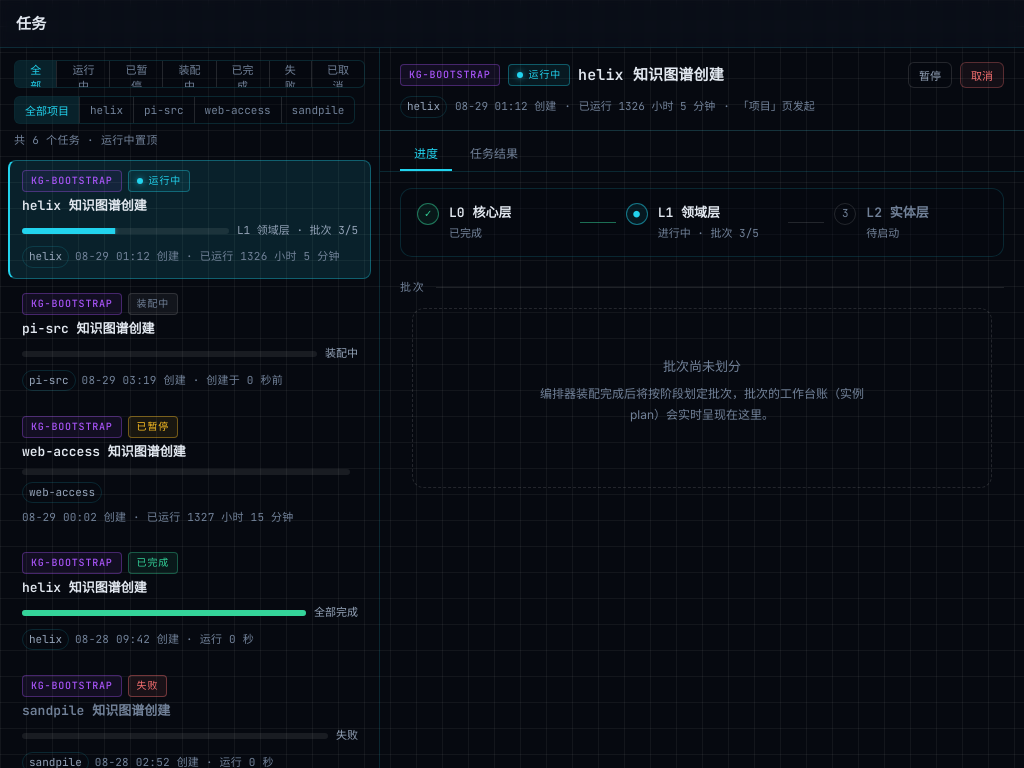
P-2 TasksPage：阶段条 + 批次 plan + 任务结果 › 结果 tab：阶段卡 = 阶段名 + 状态徽章 + summary 纯文字报告（零计数 chip/节点清单/链接/尾注）；tab 名「任务结果」
What coordinates should you click on to do the following:
click the button "任务结果"
I would click on:
 (494, 154)
Its box is [456,137,532,171].
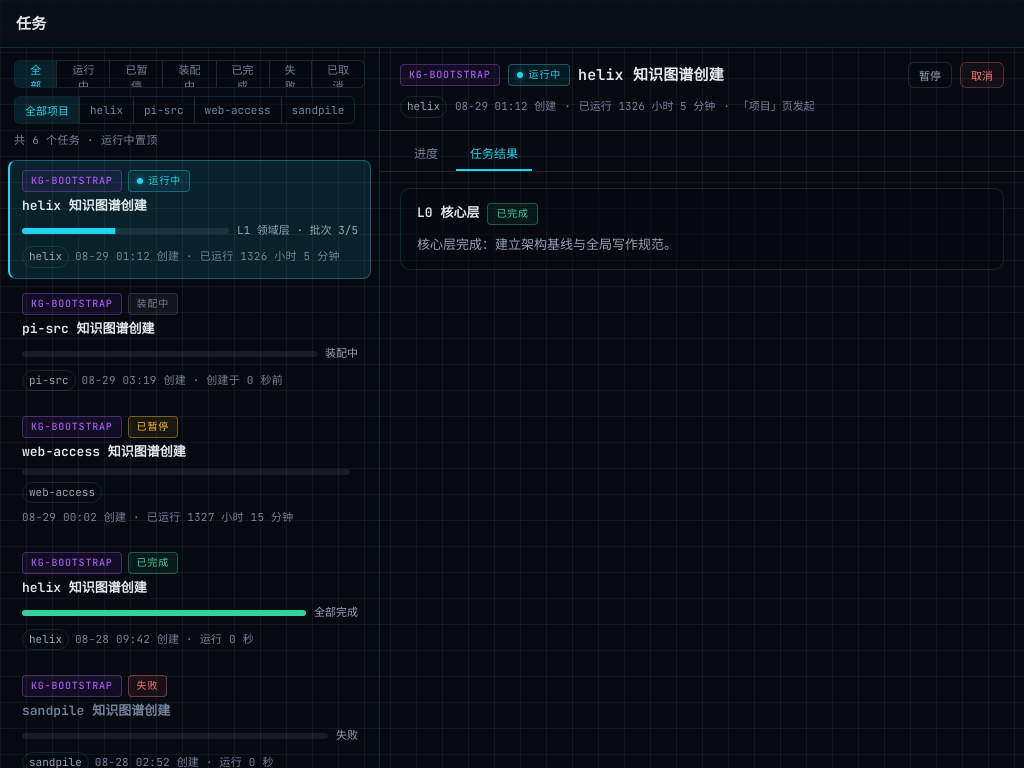
Expected: the text with class "tk-art-name" reads "L0 核心层", [417,204,479,221]
Expected: the text with class "tk-art-sum" reads "核心层完成：建立架构基线与全局写作规范。", [417,236,677,252]
